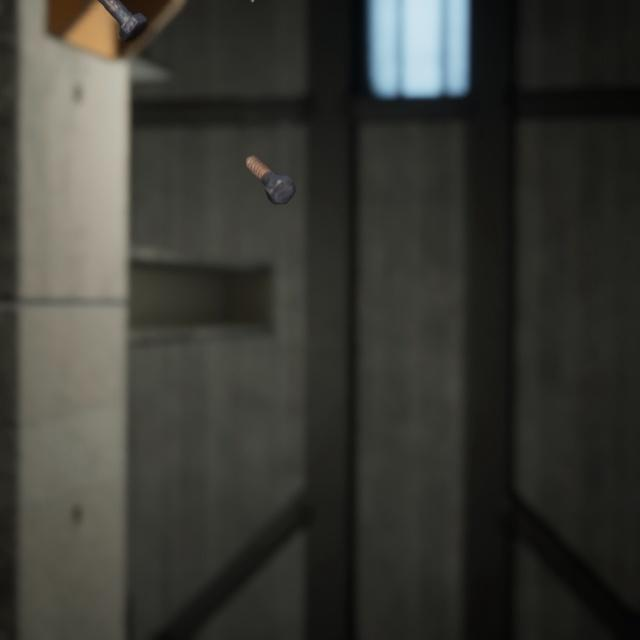bolt: (241, 136, 300, 194), (98, 0, 151, 39)
